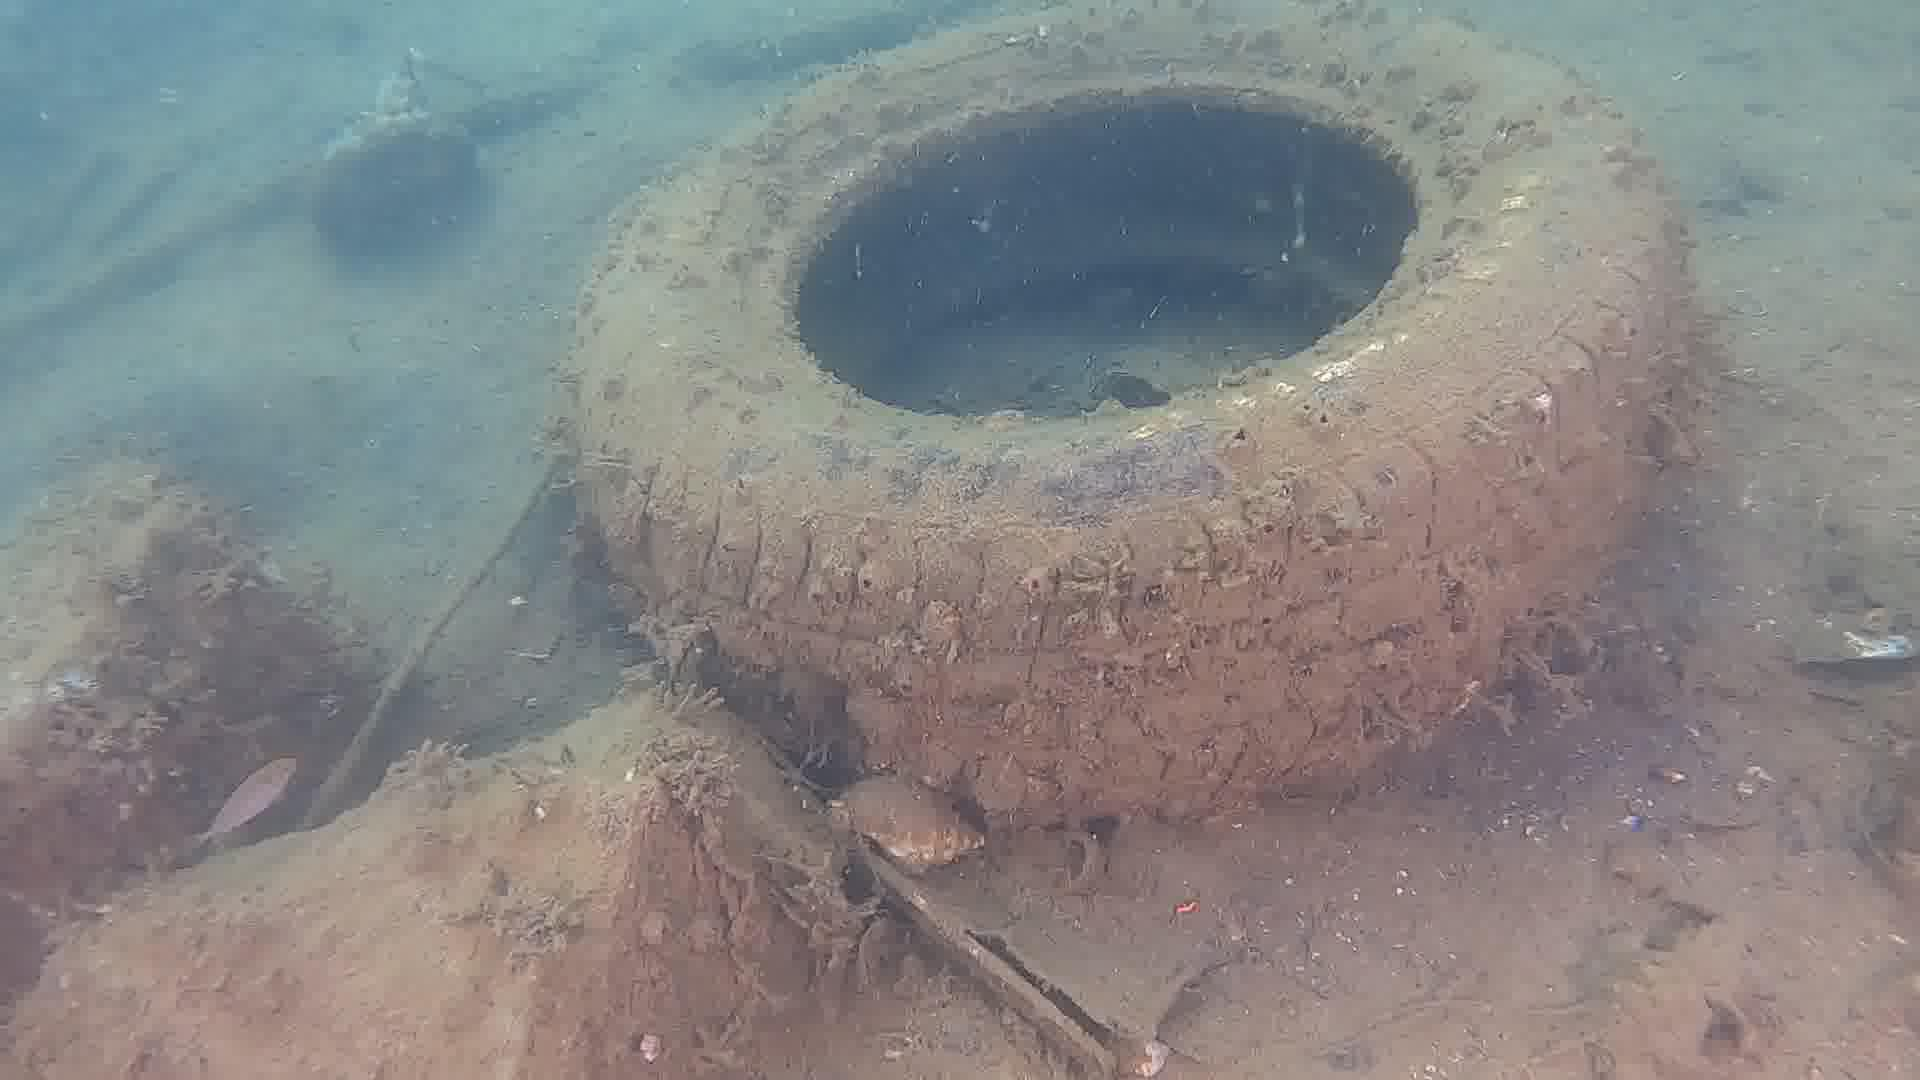tire: (575, 7, 1671, 800)
